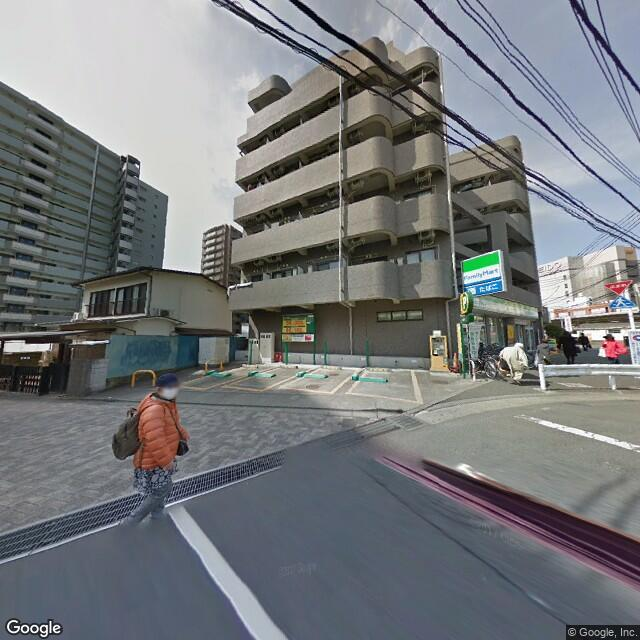family_mart: (461, 248, 503, 295)
